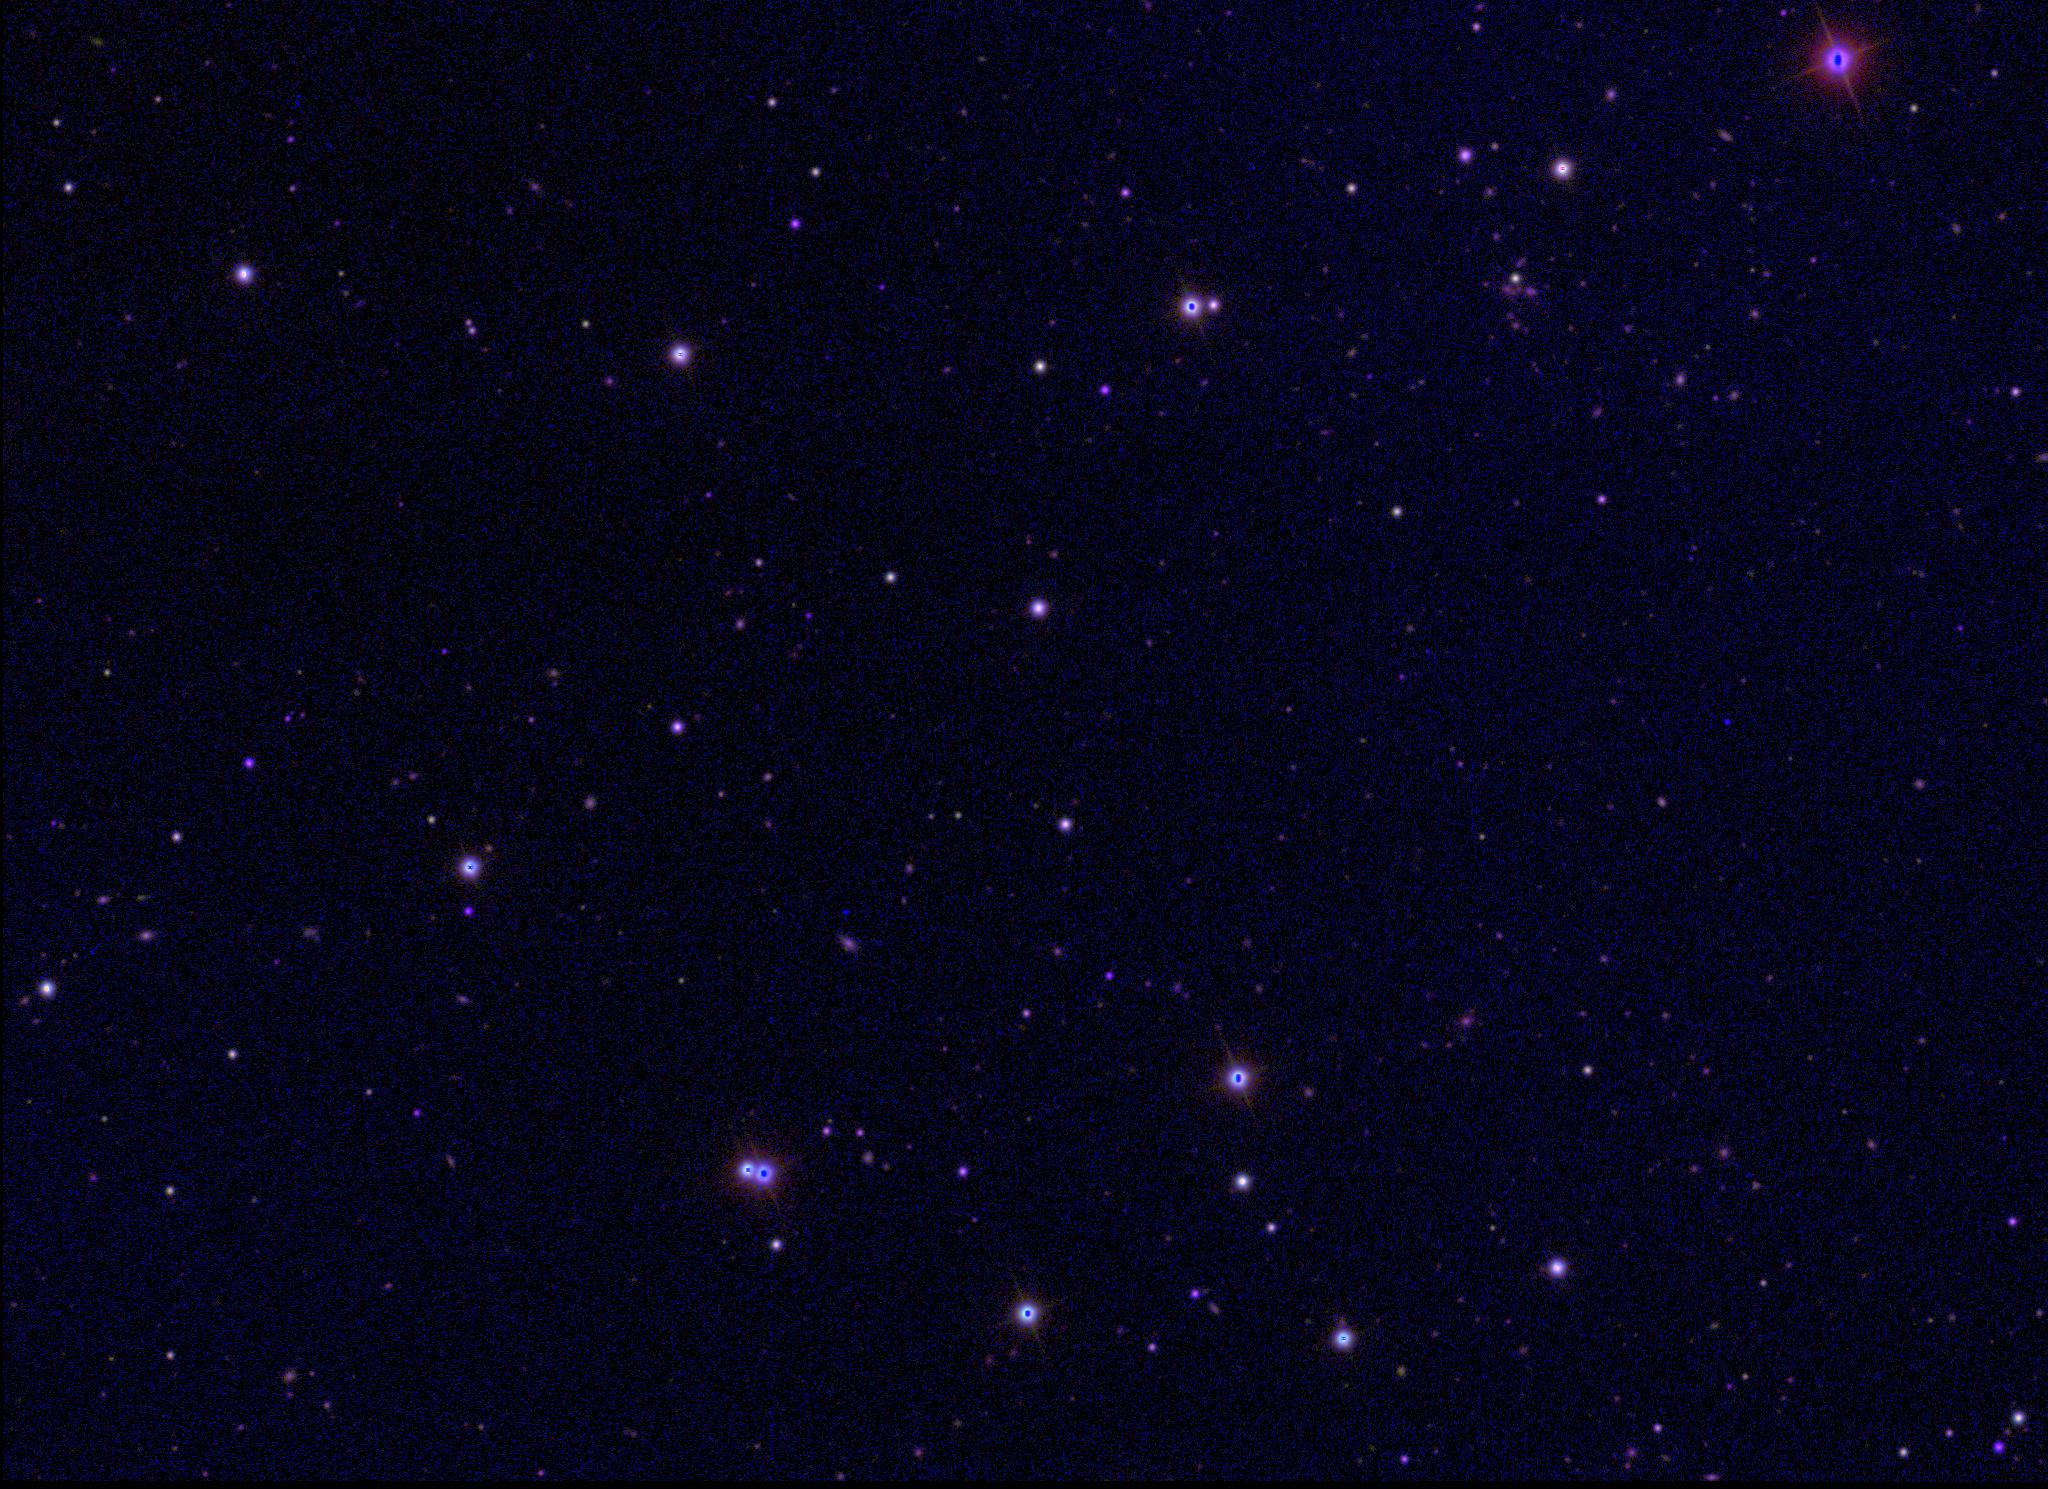L: (1719, 717, 1733, 732)
